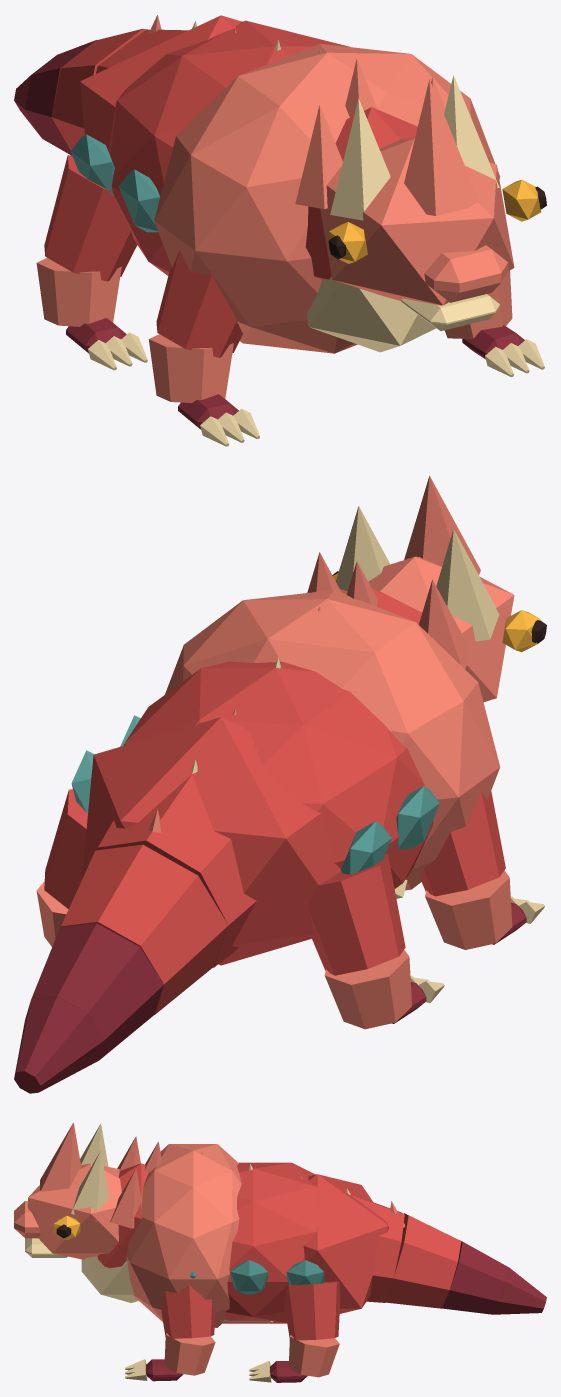
Rendered from scarlet-hunter-native-toon-source-v1.glb.
3 views of the same model, one above another, from view 1: azimuth 30°, elevation 25°; view 2: azimuth 150°, elevation 25°; view 3: azimuth 270°, elevation 25° (orthographic). The views are drawn at different scales.
Parts seen in each view (by area): view 1: ScarletHunterNativeToonMesh; view 2: ScarletHunterNativeToonMesh; view 3: ScarletHunterNativeToonMesh.
Part boxes in pixels (left/top/right/bottom): ScarletHunterNativeToonMesh: left=14, top=15, right=546, bottom=446; ScarletHunterNativeToonMesh: left=14, top=475, right=546, bottom=1093; ScarletHunterNativeToonMesh: left=14, top=1122, right=546, bottom=1382.
Size of the model in its own units: 1.2 by 1.18 by 2.66.
